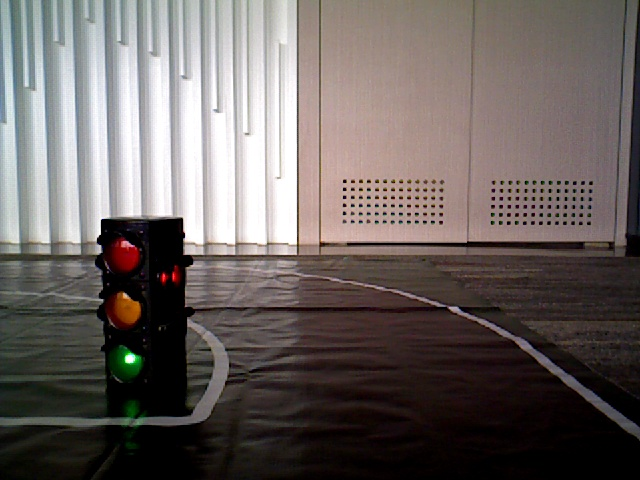green: (106, 224, 151, 387)
